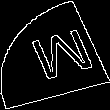M_S: (17, 23, 93, 87)
